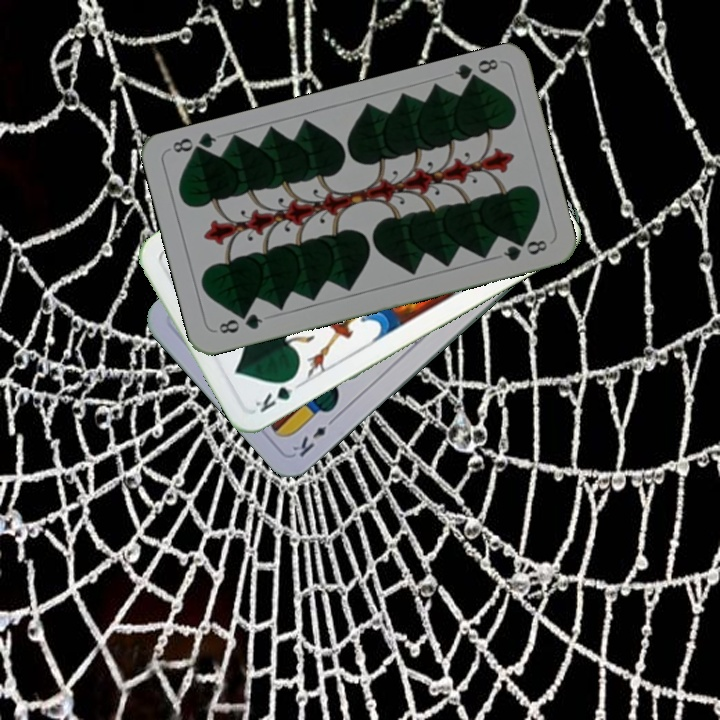EK: (288, 412, 339, 460)
G8: (450, 54, 501, 88), (214, 309, 266, 337)
GK: (251, 372, 305, 416)
